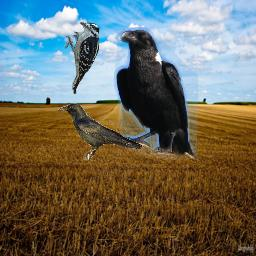Crow: (114, 27, 198, 160), (57, 103, 143, 161)
Woodpecker: (65, 21, 104, 94)
